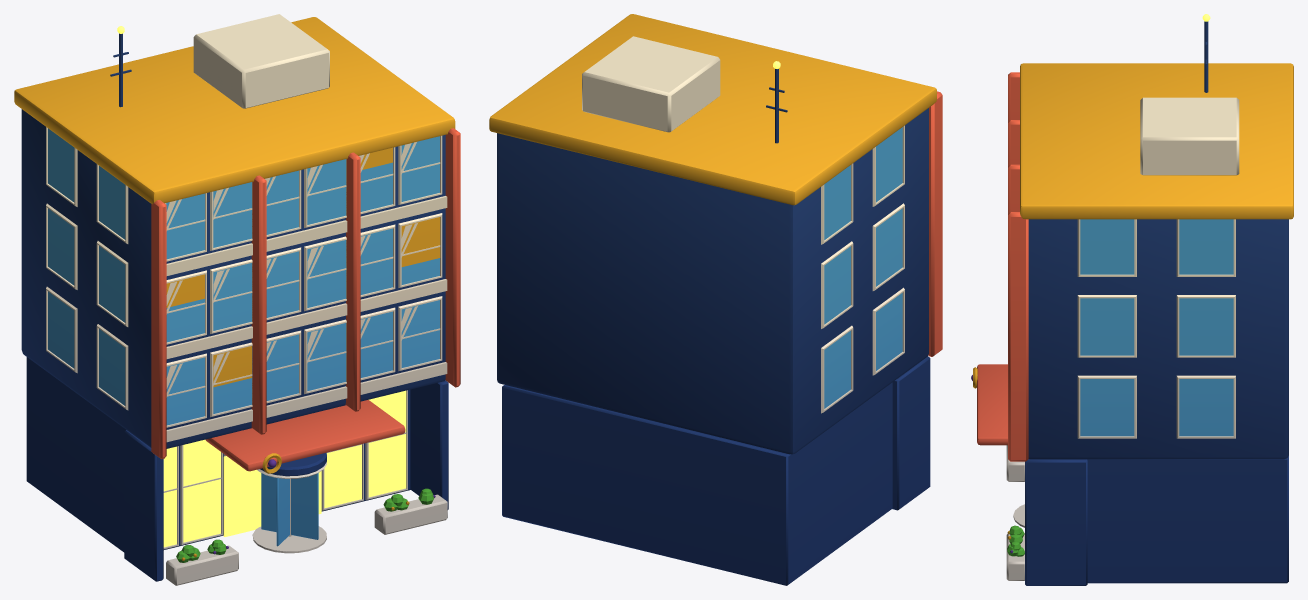
File: office.glb
The picture shows the model from 3 angles, left to right: view 1: azimuth 30°, elevation 25°; view 2: azimuth 150°, elevation 25°; view 3: azimuth 270°, elevation 25°; orthographic projection. The views are drawn at different scales.
Visible parts, largest first — view 1: office; view 2: office; view 3: office.
Boxes of the visible parts, bbox=[...] form: office: bbox=[14, 14, 460, 585]; office: bbox=[489, 14, 942, 585]; office: bbox=[971, 14, 1293, 585].
Size of the model in its own units: 10.3 by 15.4 by 9.78.
